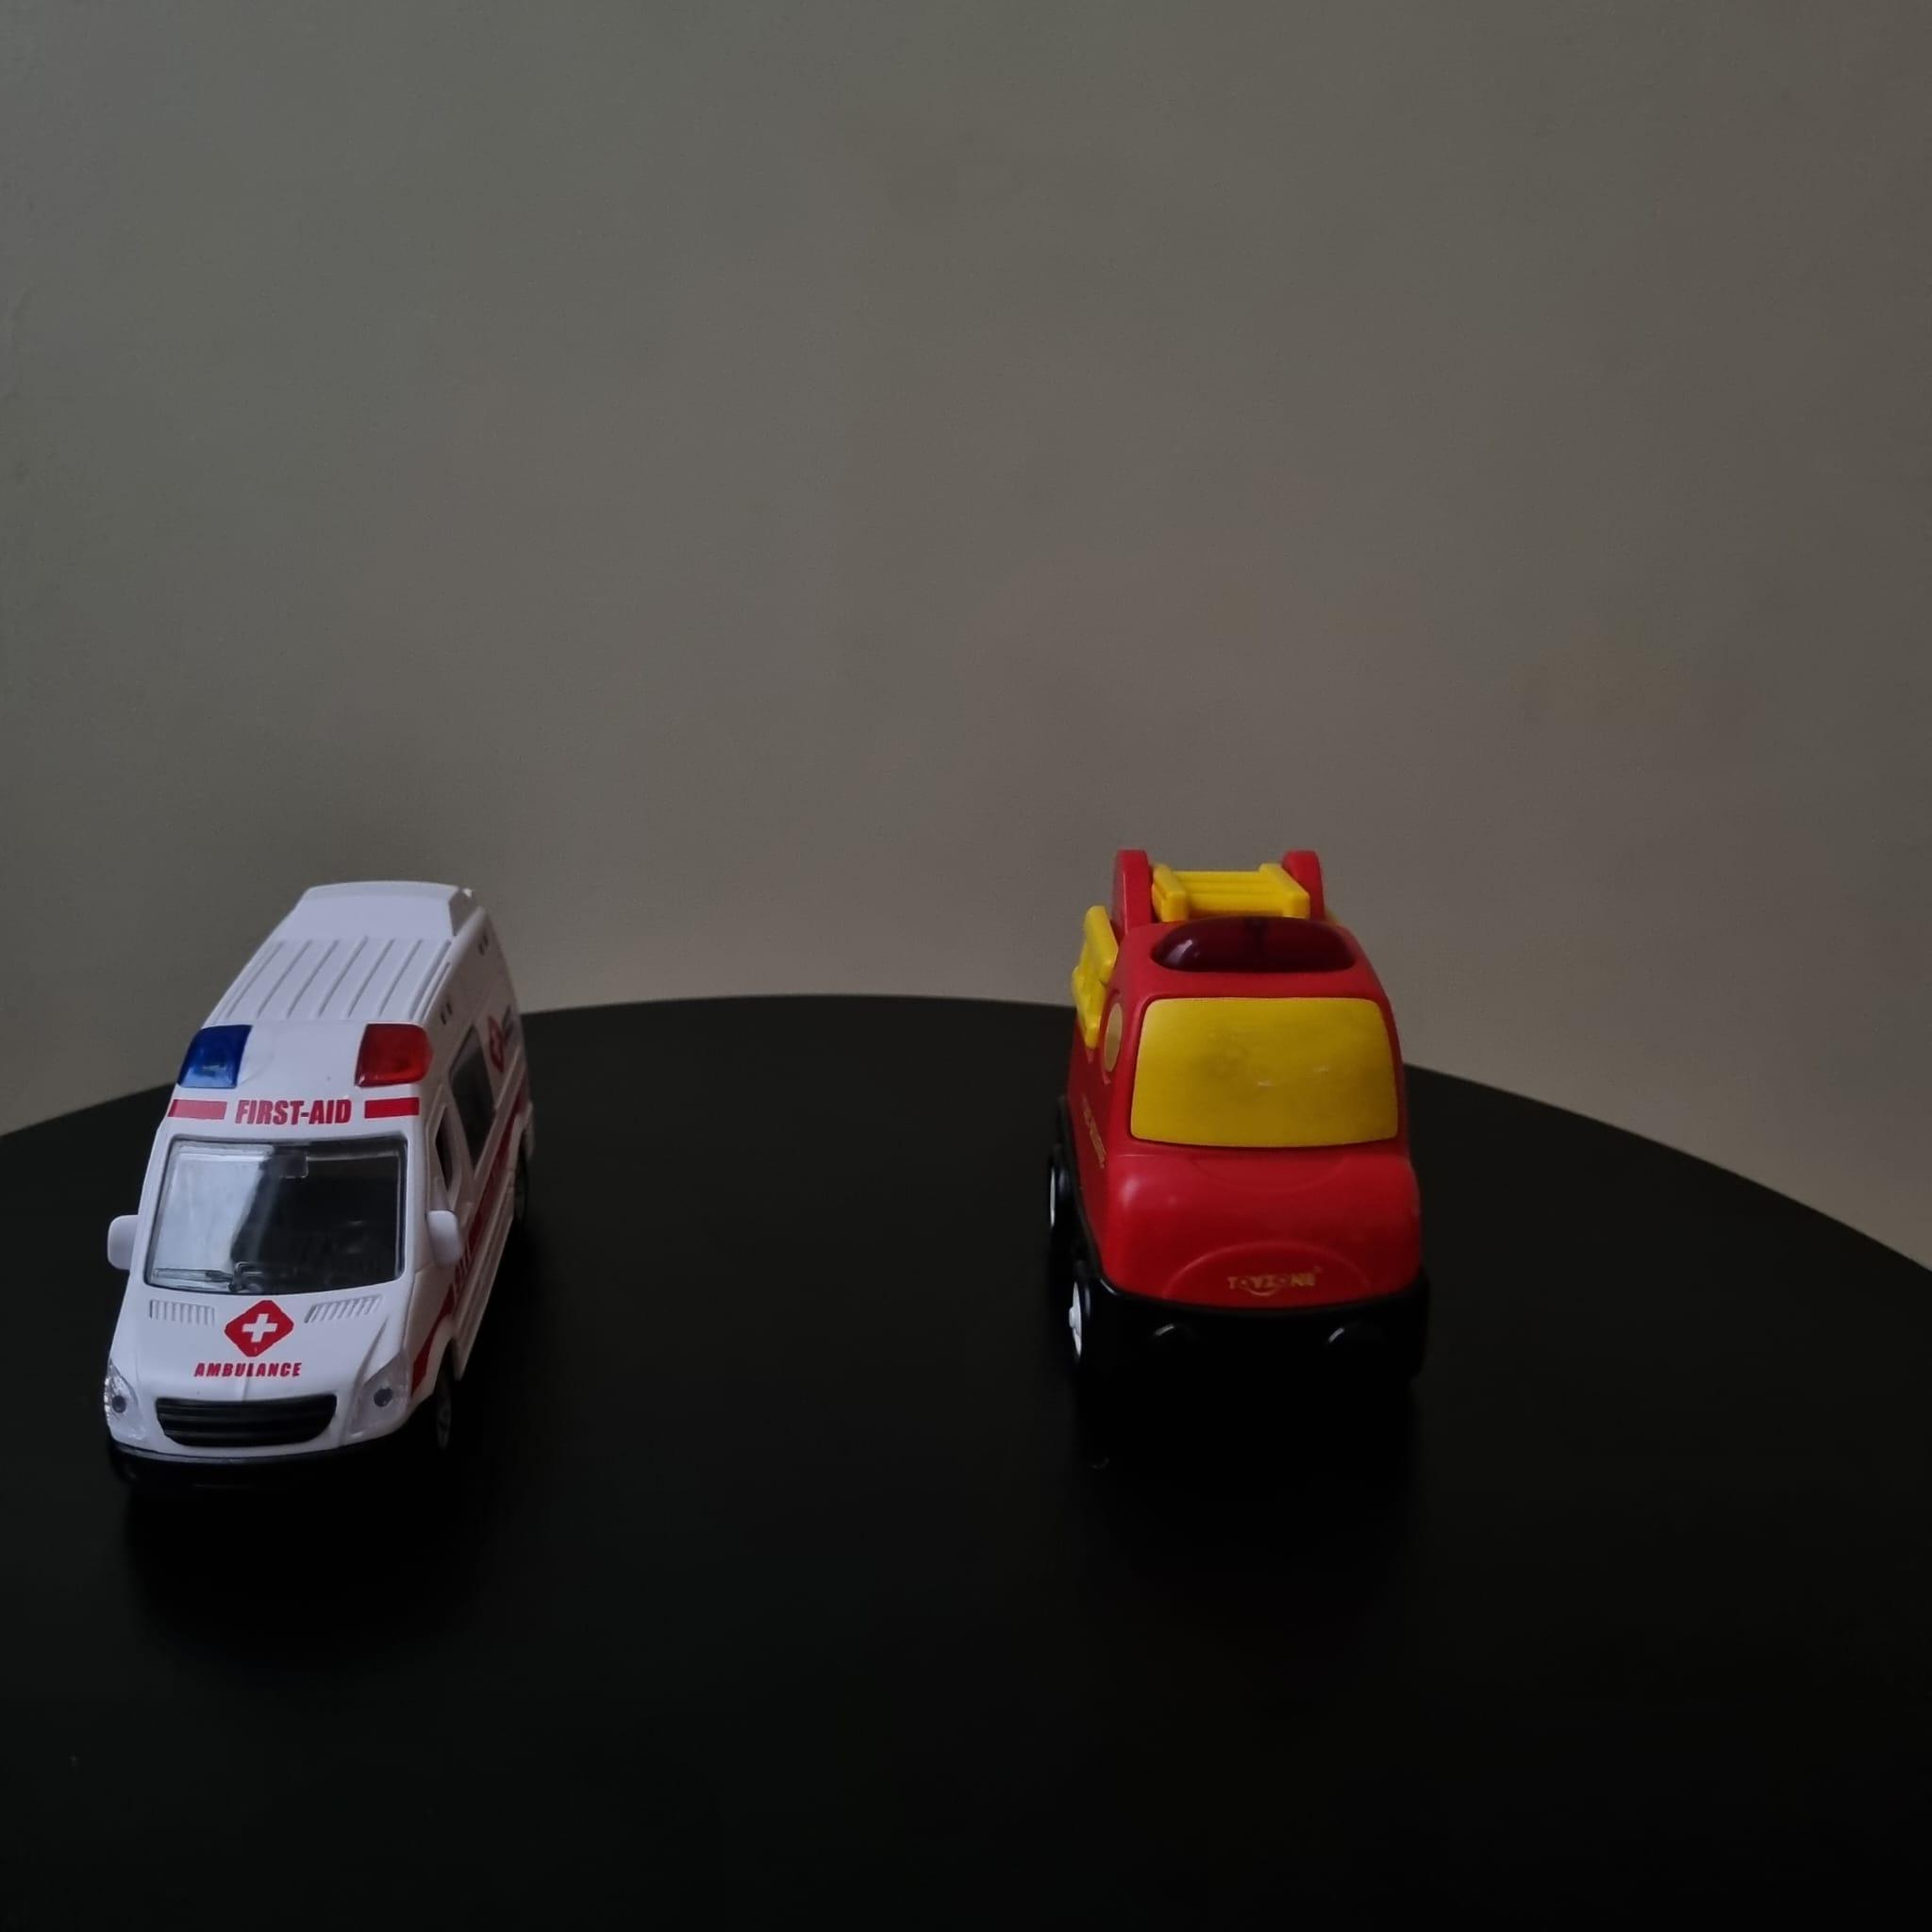ambulance_off: (87, 878, 536, 1507)
firetruck_off: (1030, 842, 1433, 1405)
